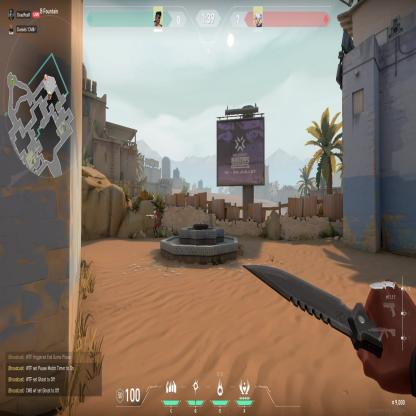enemy: (152, 210, 158, 240)
